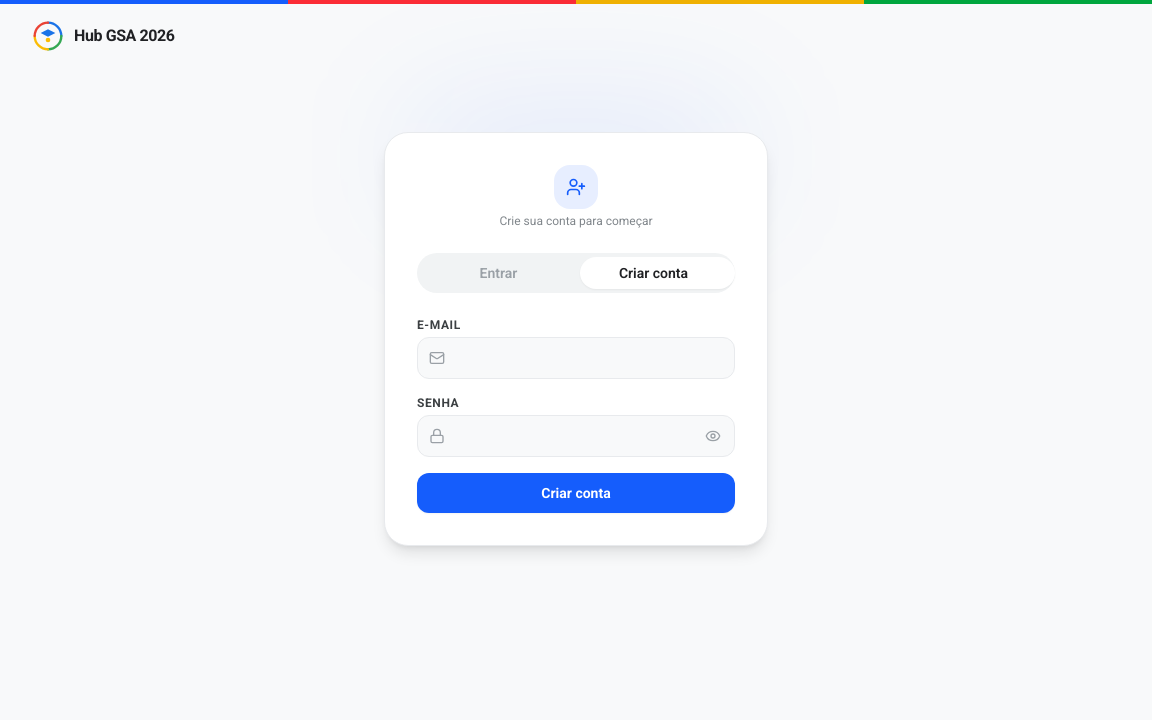
Test case: AuthScreen › signs up and shows a confirmation message when the password is not leaked
Type "nova@example.com" into the field labelled "E-mail".
click(576, 358); type("nova@example.com")  # box [417,337,735,379]
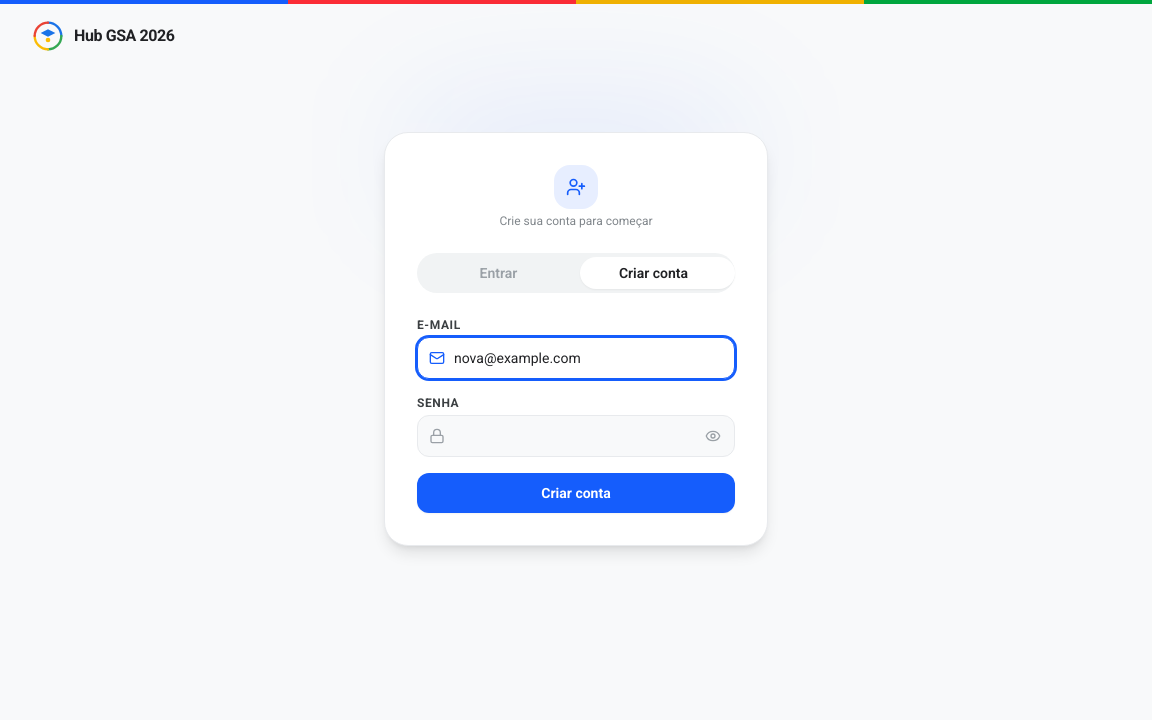
Type "senhaSegura1" into the password field labelled "Senha".
click(576, 436); type("senhaSegura1")  # box [417,415,735,457]
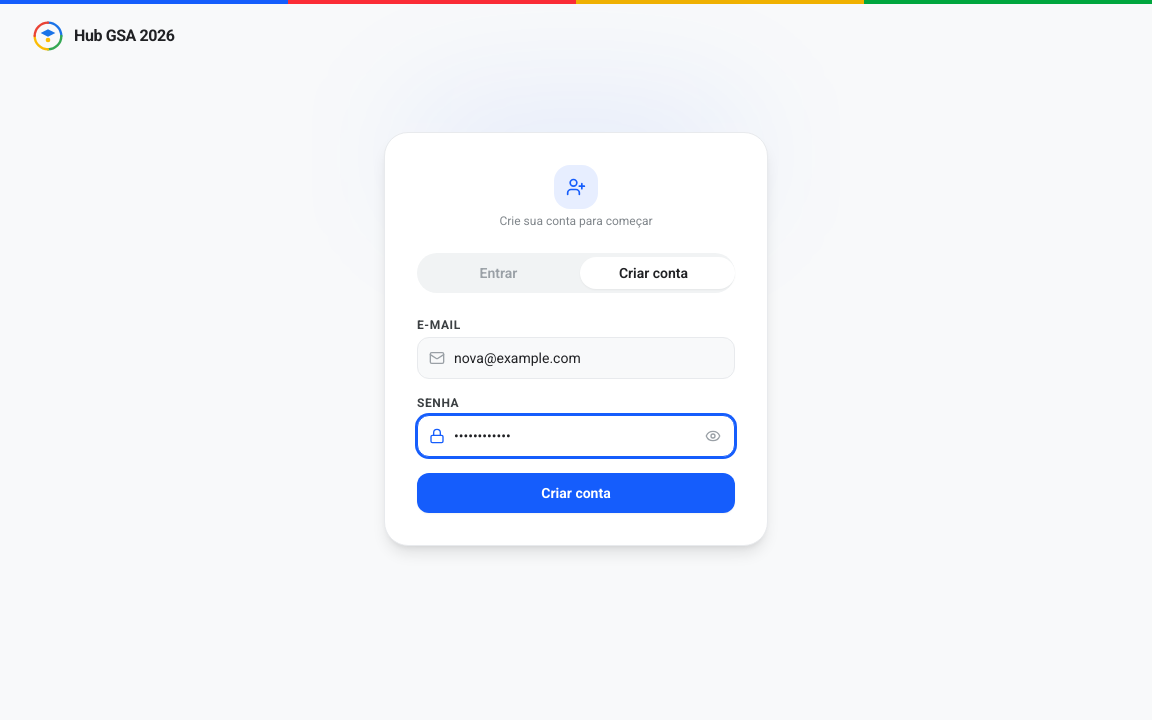
Click the submit button.
click(576, 493)  # box [417,473,735,513]
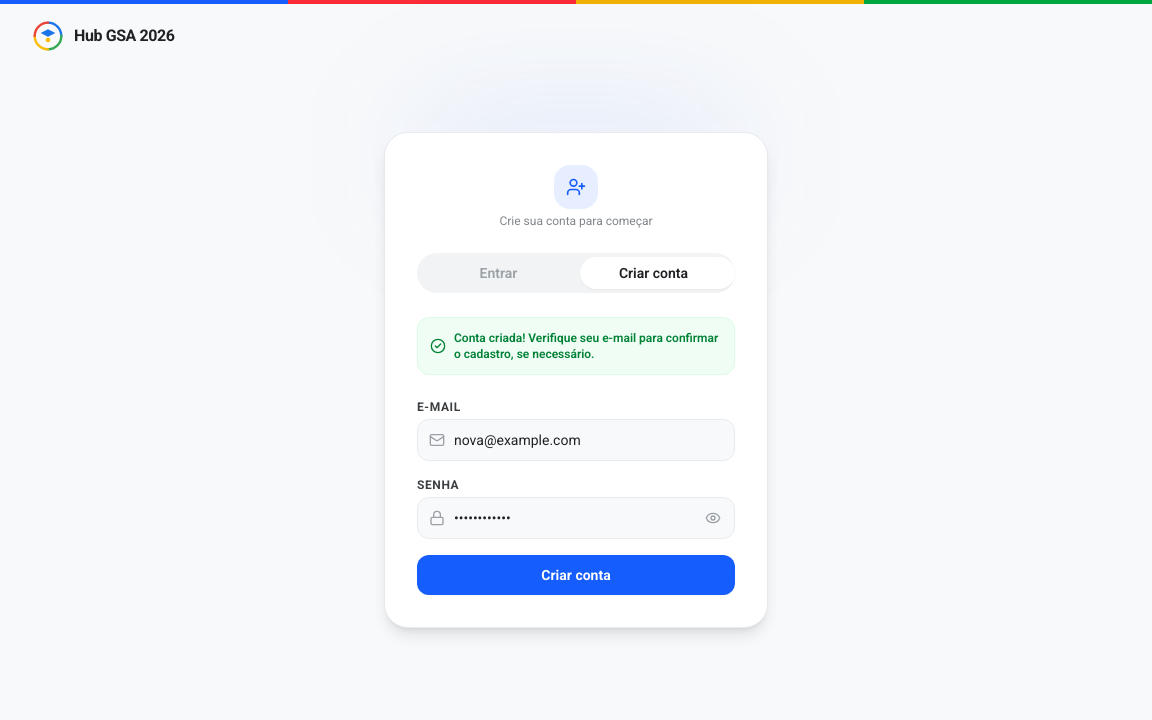
Check: the text "Conta criada!" is shown, box [454,331,718,361]
